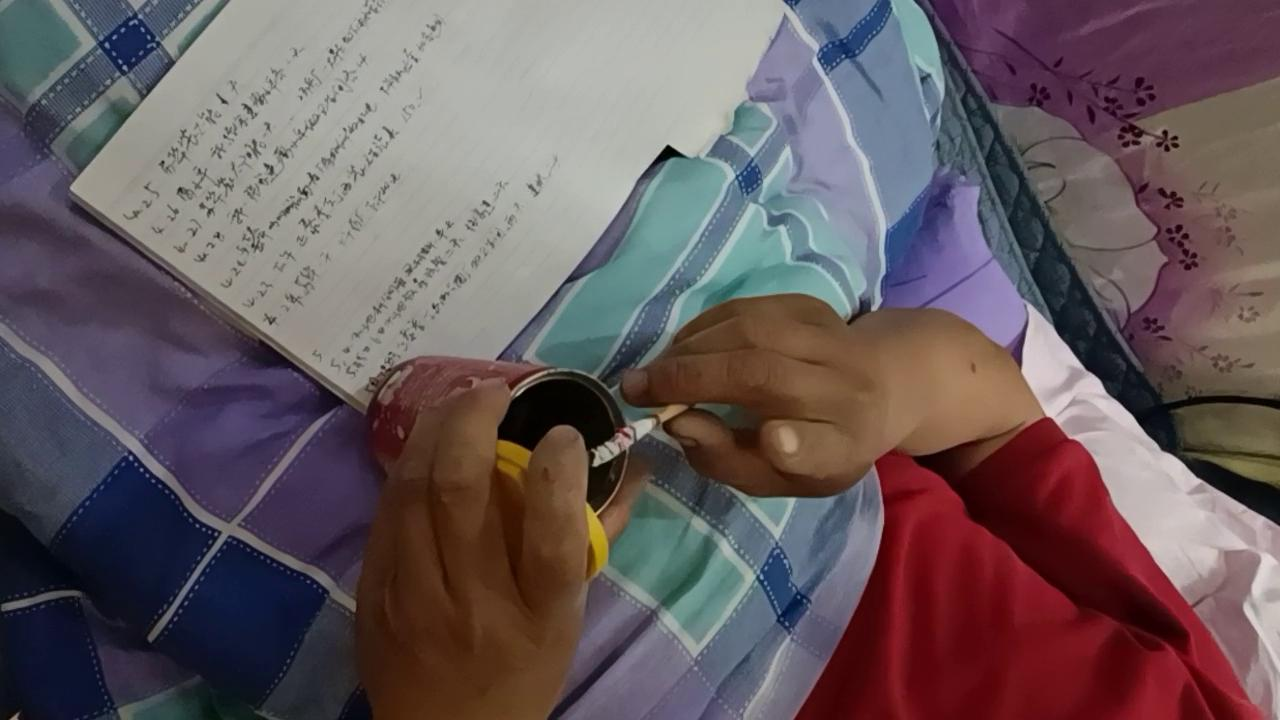smoke: (593, 399, 695, 468)
